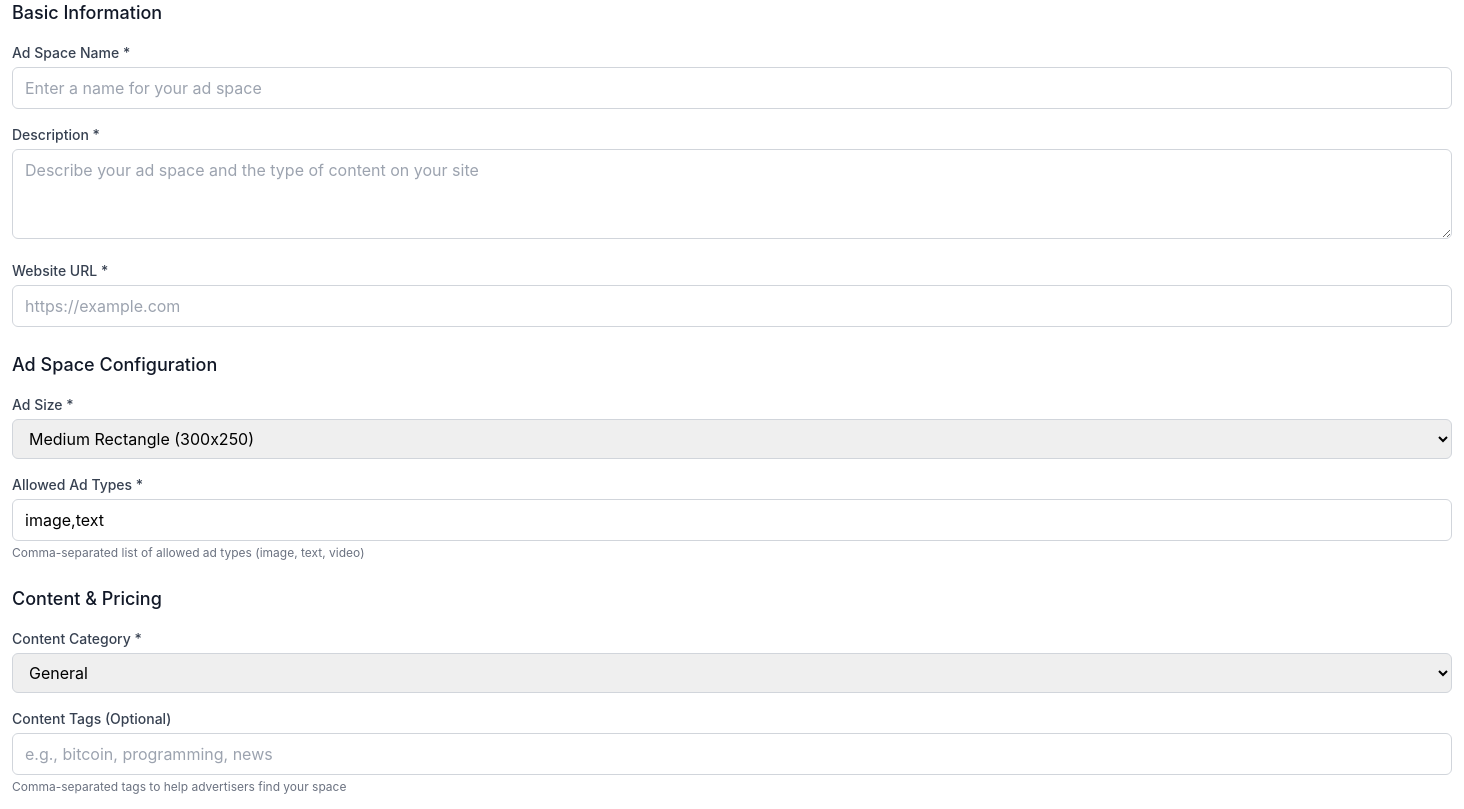
Test: SpaceForm Component › validates website URL format
The width and height of the screenshot is (1464, 809).
Enter invalid website URL
Type "invalid-url" into the field labelled "Website URL *" at (732, 306), box [12,285,1452,327]
(page scrolled)
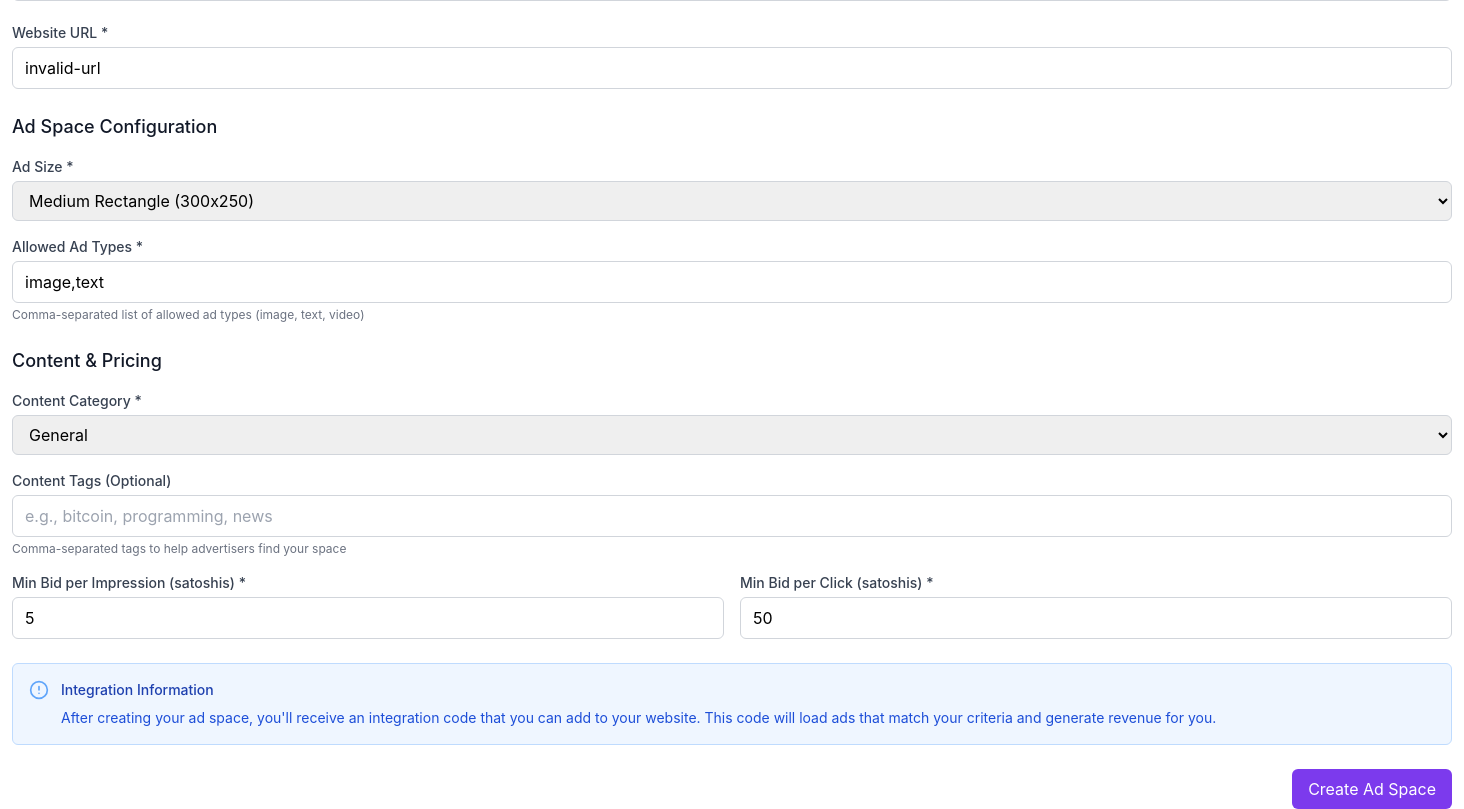
Submit the form
Click the button "Create Ad Space" at (1372, 789), box [1292,769,1452,808]
(page scrolled)
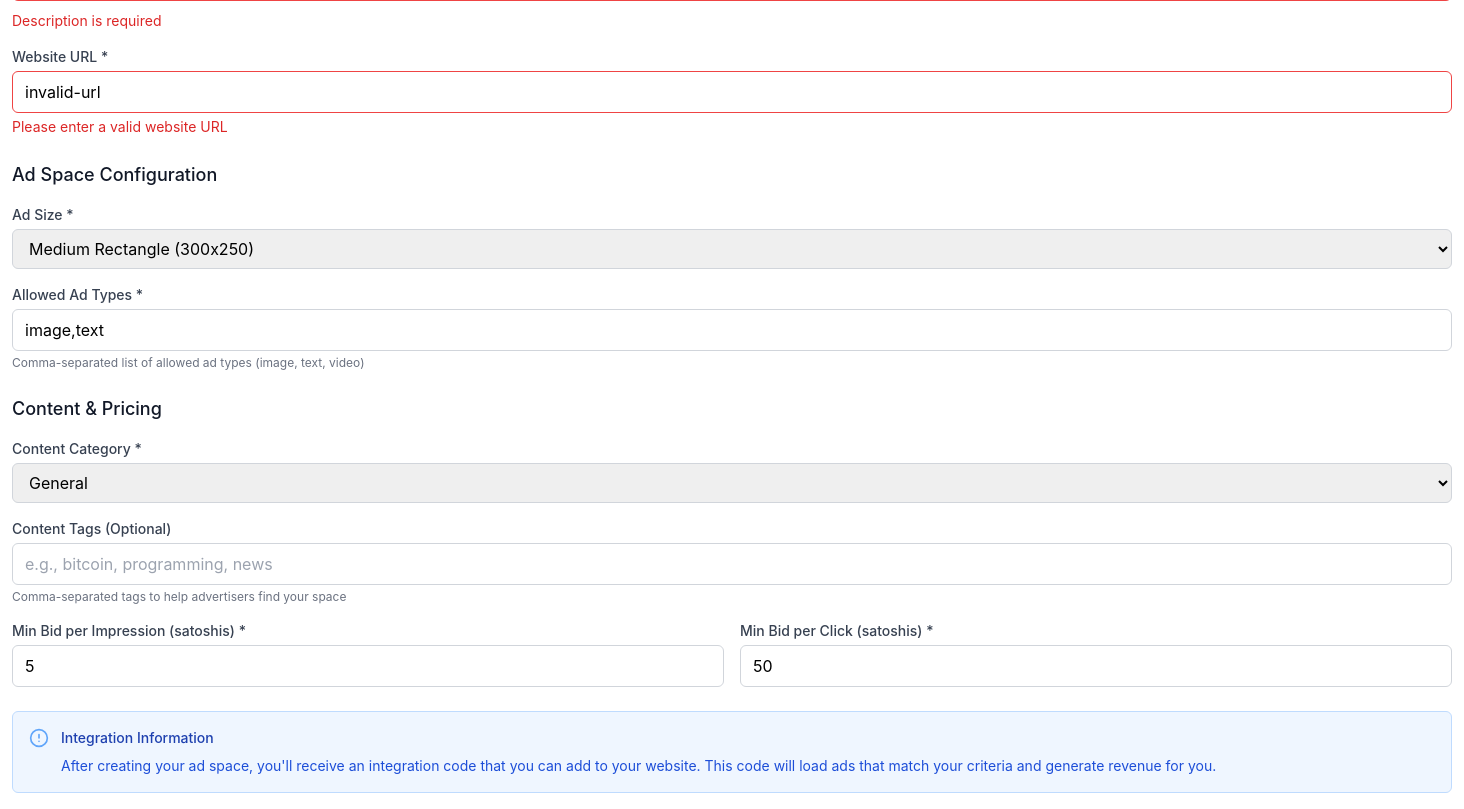
expect the text "Please enter a valid website URL" is shown: met, box [12,118,228,135]
